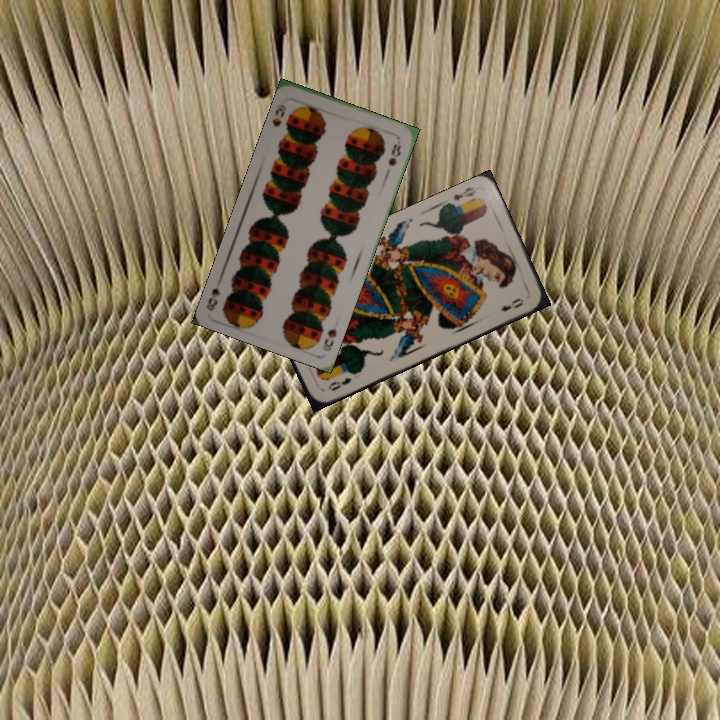EO: (324, 373, 354, 393), (450, 183, 478, 203)
S8: (268, 100, 289, 129), (319, 324, 339, 354)
